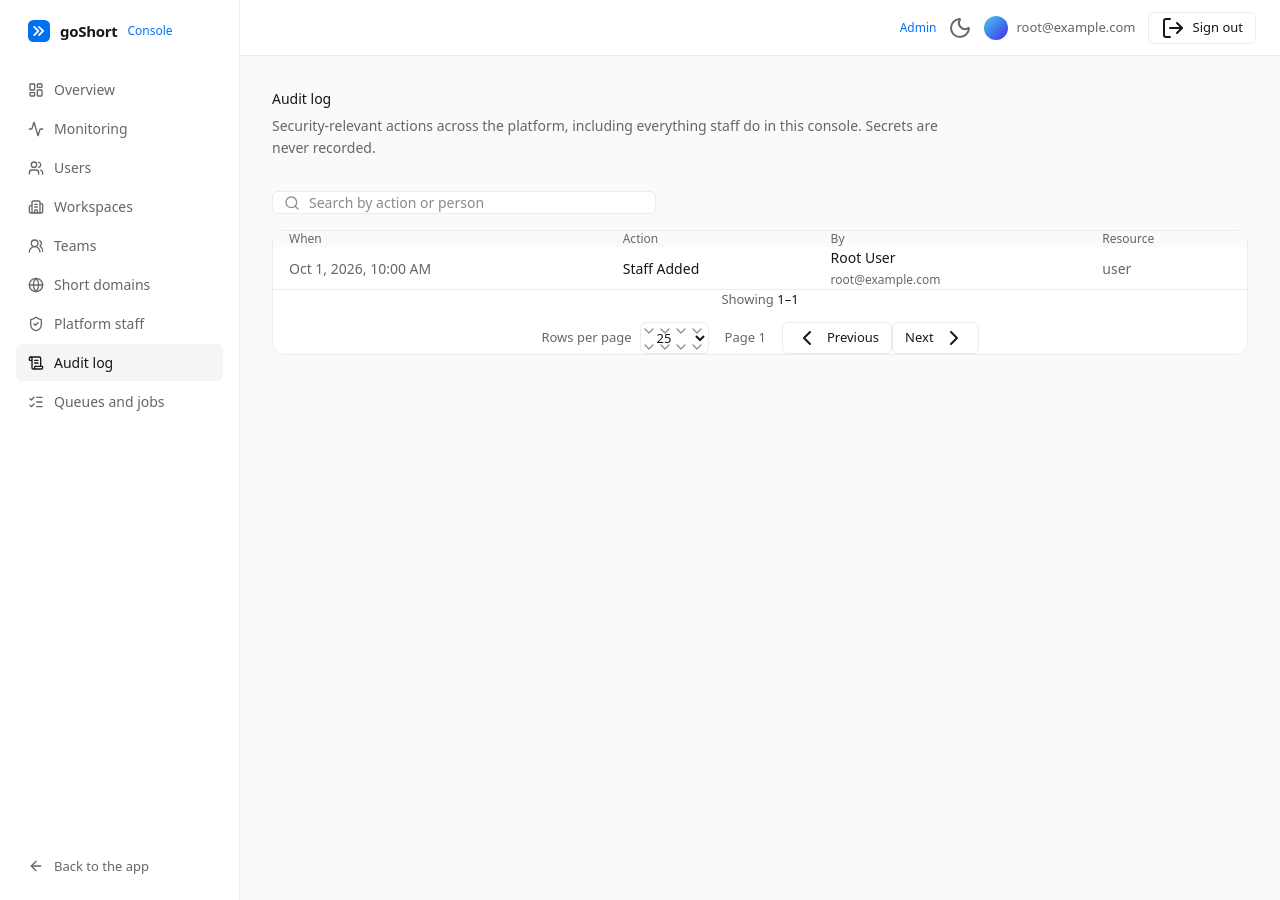
Test: workspaces, teams and audit › shows who did what, and reveals the details on demand
Check: the text "root@example.com" below "Root User" is shown, box [831,271,940,288]
Click the button "staff added" at (661, 268), box [623,258,699,278]
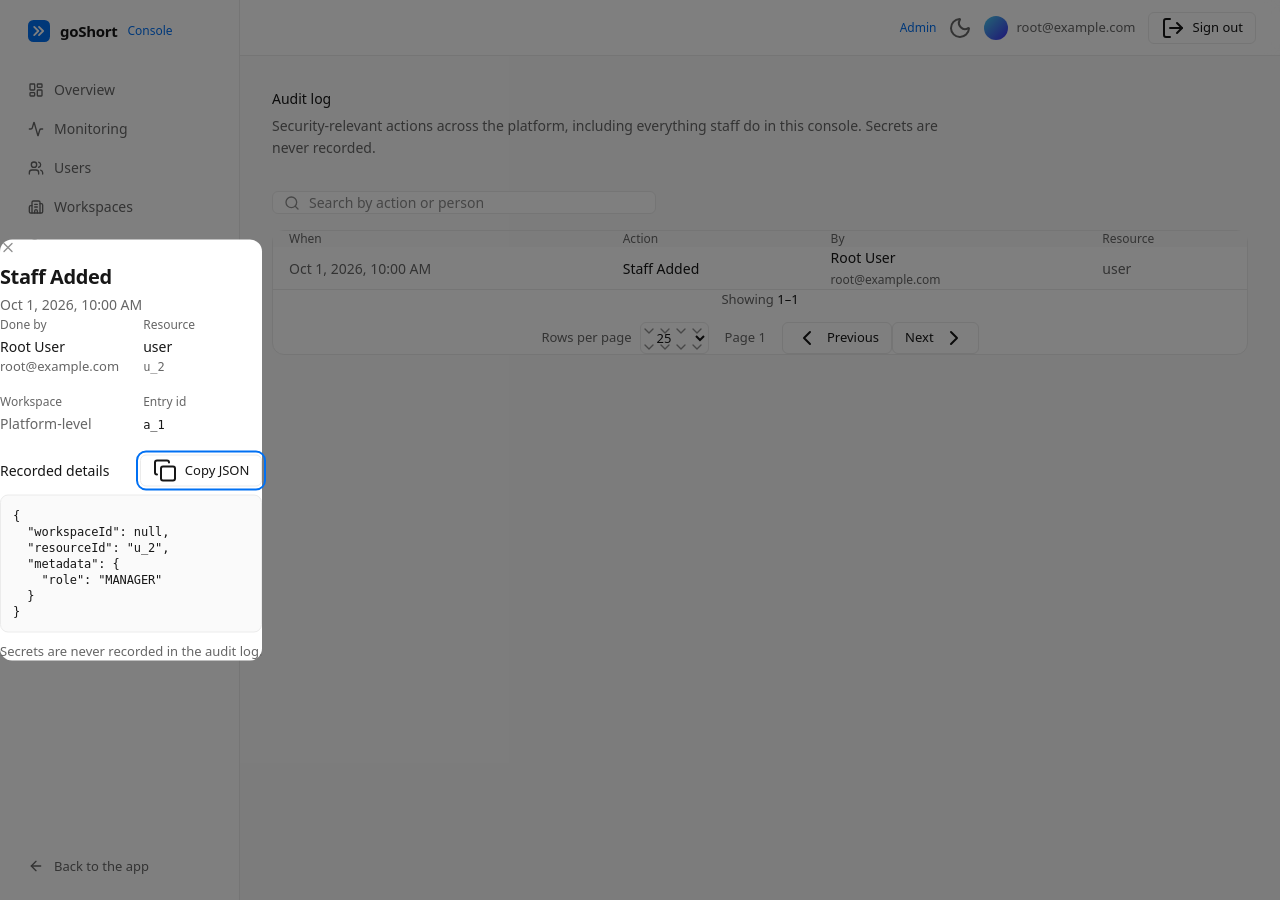
Check: the heading "staff added" is shown, box [0,262,112,290]
Check: the text "Root User" is shown, box [0,336,65,356]
Check: the text "u_2" is shown, box [143,360,164,374]
Click the button named "Close" at (8, 248), box [0,240,16,256]
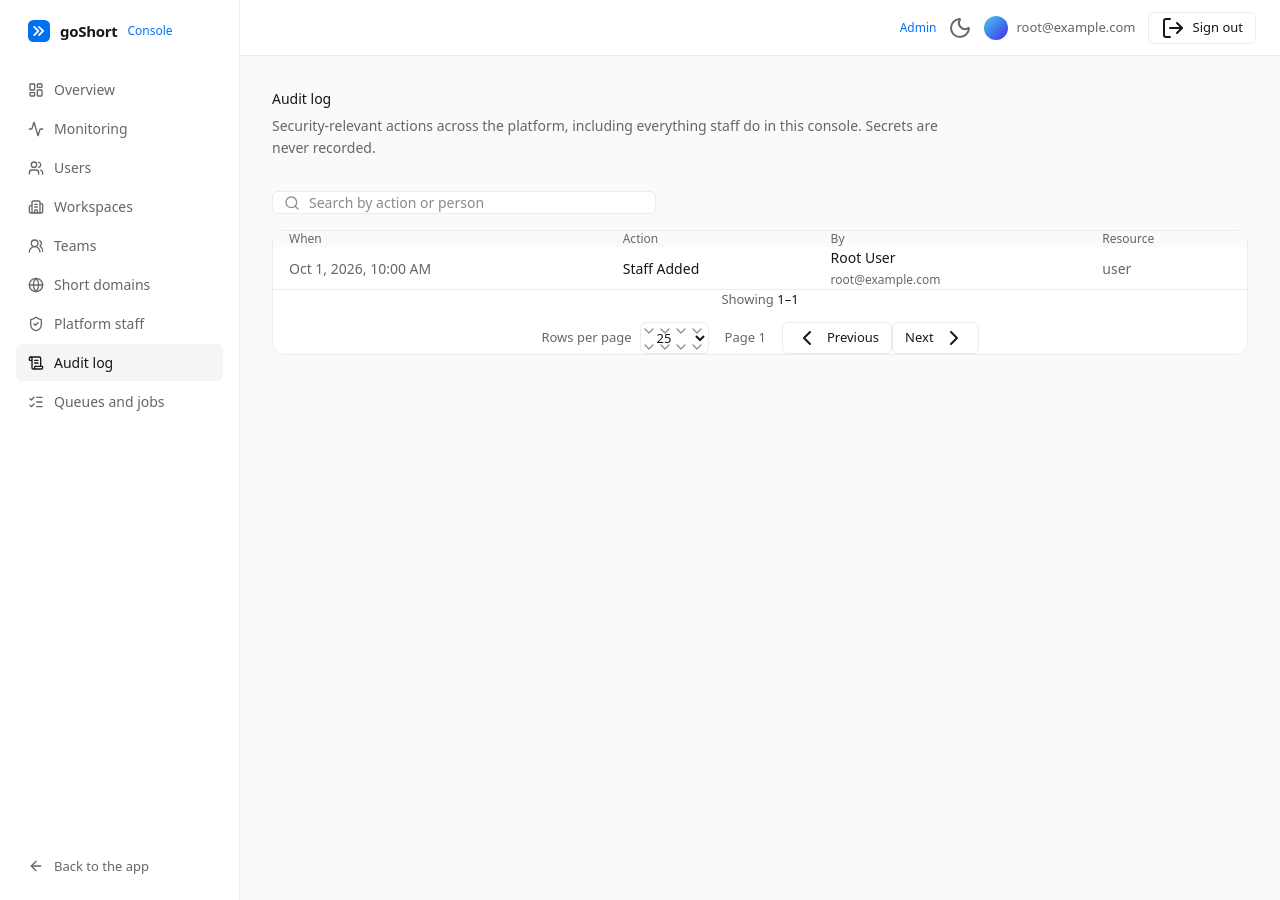
Check: the dialog is gone
